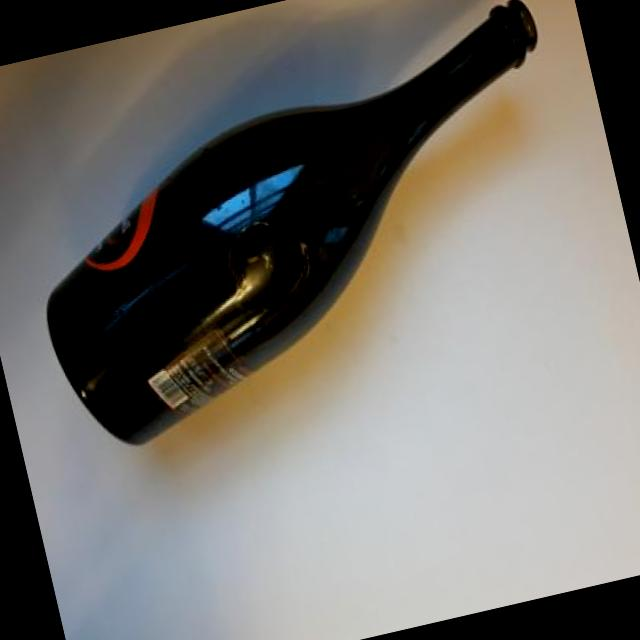chai_thuy_tinh: (45, 0, 537, 444)
